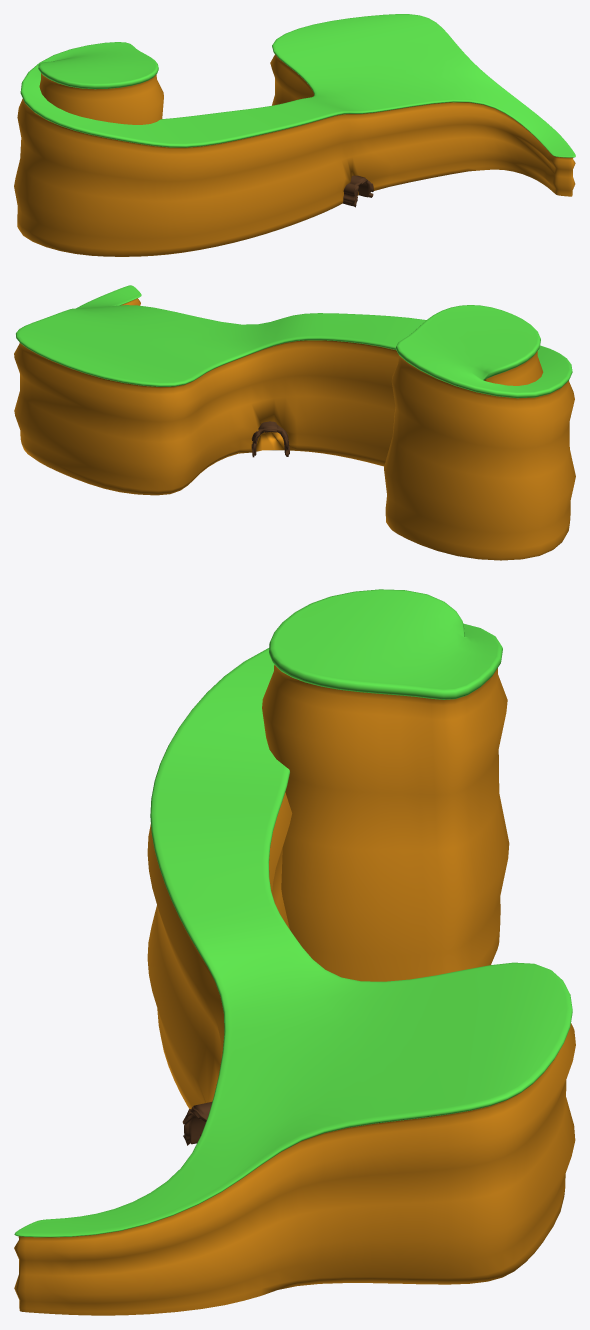
File: PlatformMainTest.fbx
The picture shows the model from 3 angles, top to bottom: view 1: azimuth 30°, elevation 25°; view 2: azimuth 150°, elevation 25°; view 3: azimuth 270°, elevation 25°; orthographic projection. The views are drawn at different scales.
Visible parts, largest first — view 1: Cube; view 2: Cube; view 3: Cube.
Part boxes in pixels (bbox=[...]): Cube: bbox=[14, 14, 575, 256]; Cube: bbox=[14, 285, 575, 560]; Cube: bbox=[14, 589, 575, 1315].
Bounding box in the file's own units: 21420 × 7045 × 11455.
